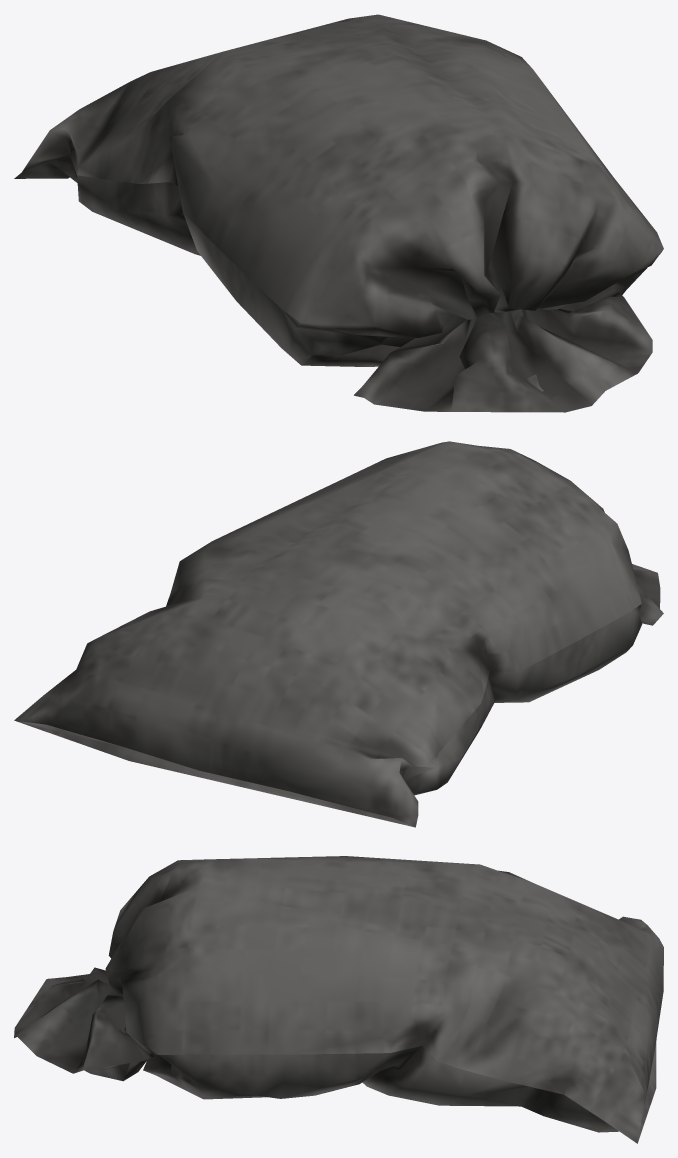
The model's file is sandbag.glb.
3 views of the same model, one above another, from view 1: azimuth 30°, elevation 25°; view 2: azimuth 150°, elevation 25°; view 3: azimuth 270°, elevation 25° (orthographic). The views are drawn at different scales.
Visible parts, largest first — view 1: sandbag; view 2: sandbag; view 3: sandbag.
Part boxes in pixels (left/top/right/bottom): sandbag: left=14, top=14, right=663, bottom=412; sandbag: left=14, top=441, right=663, bottom=827; sandbag: left=14, top=856, right=663, bottom=1143.
Bounding box in the file's own units: 0.4907 × 0.1963 × 0.6955.
1 material, 1 textured.
